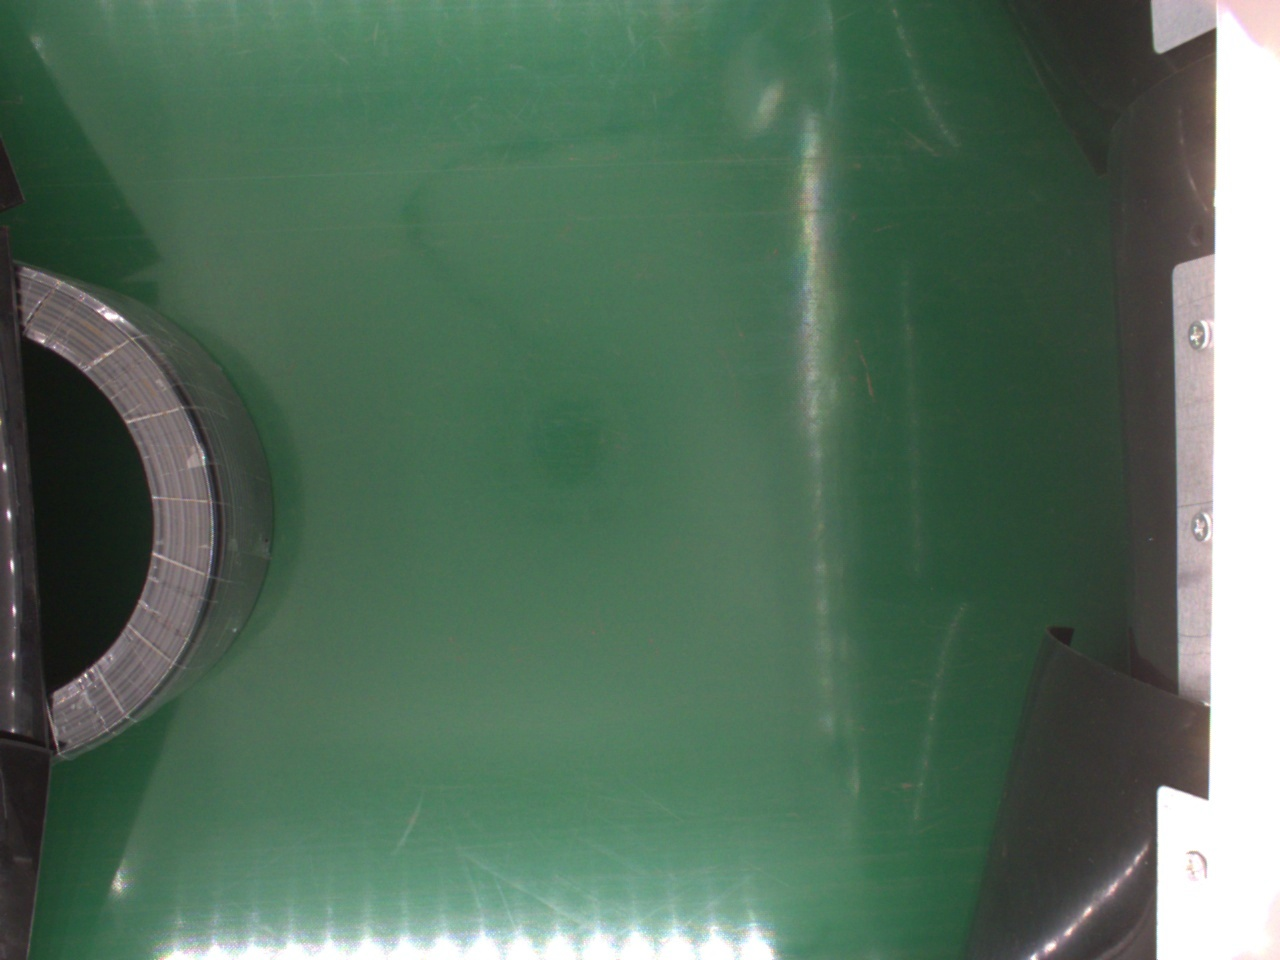black: (23, 260, 275, 761)
